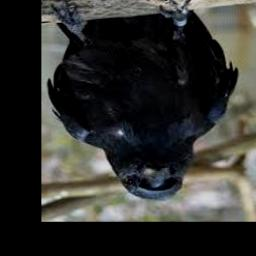Crow: (47, 0, 239, 201)
